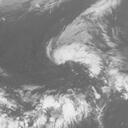cyclone: (42, 36, 108, 100)
